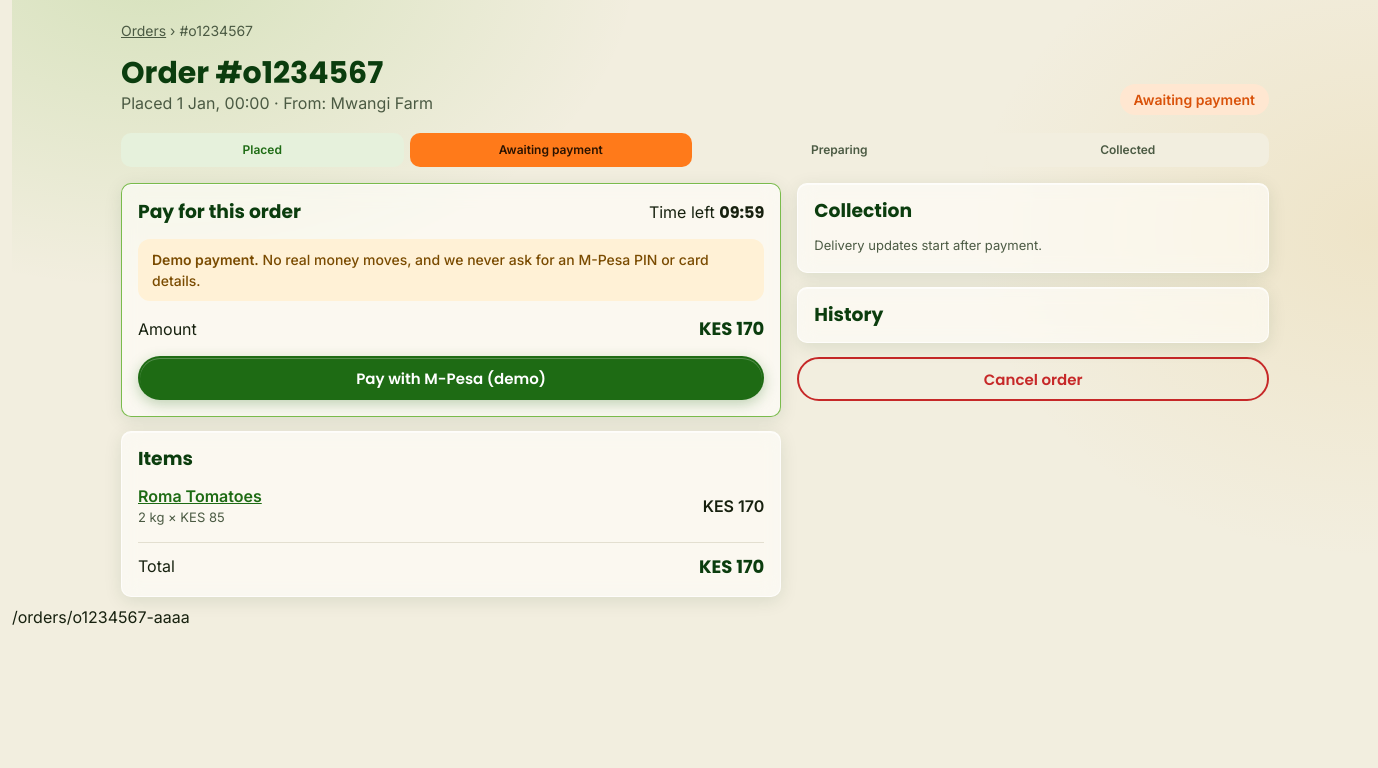
it: order payment (simulated) › never shows PIN or card fields, and re-reads the order from the server after paying
Expected: the text "Demo payment." is shown, [152,251,259,268]
Click the button "Pay with M-Pesa (demo)" at [451, 378], box [138,356,764,400]
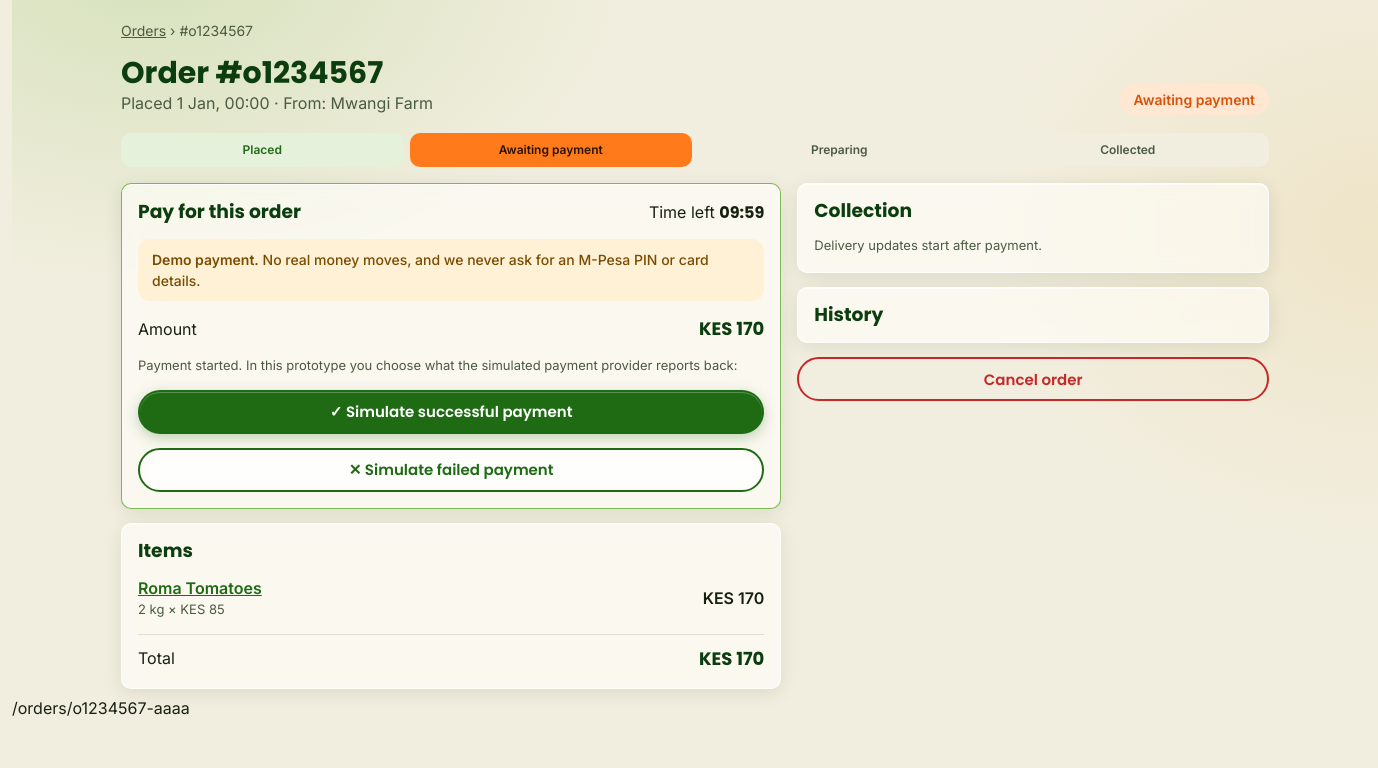
Click the button "✓ Simulate successful payment" at [451, 412], box [138,390,764,434]
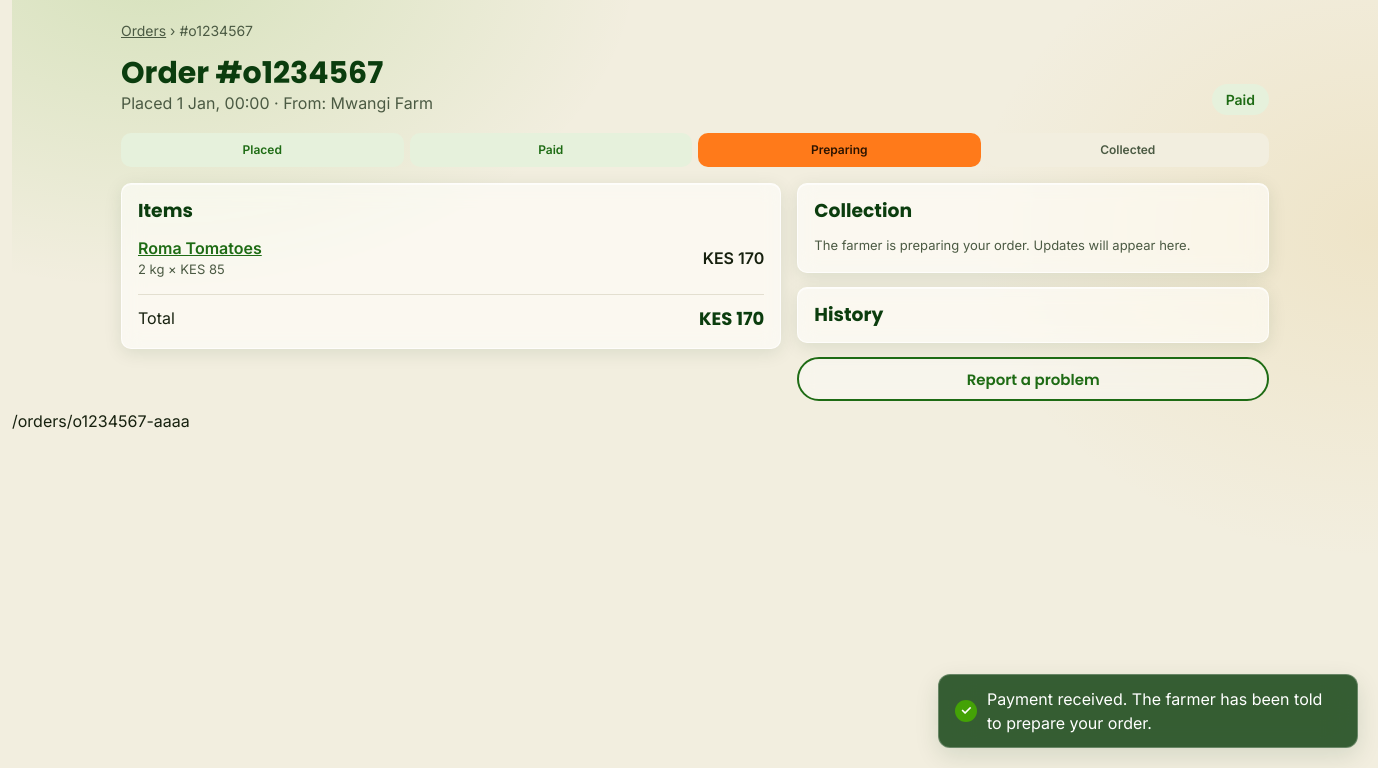
Expected: the button "Pay with M-Pesa" is not shown
Now the text "Paid" in the row of "· From: Mwangi Farm" is shown, box [1226,91,1255,108]
